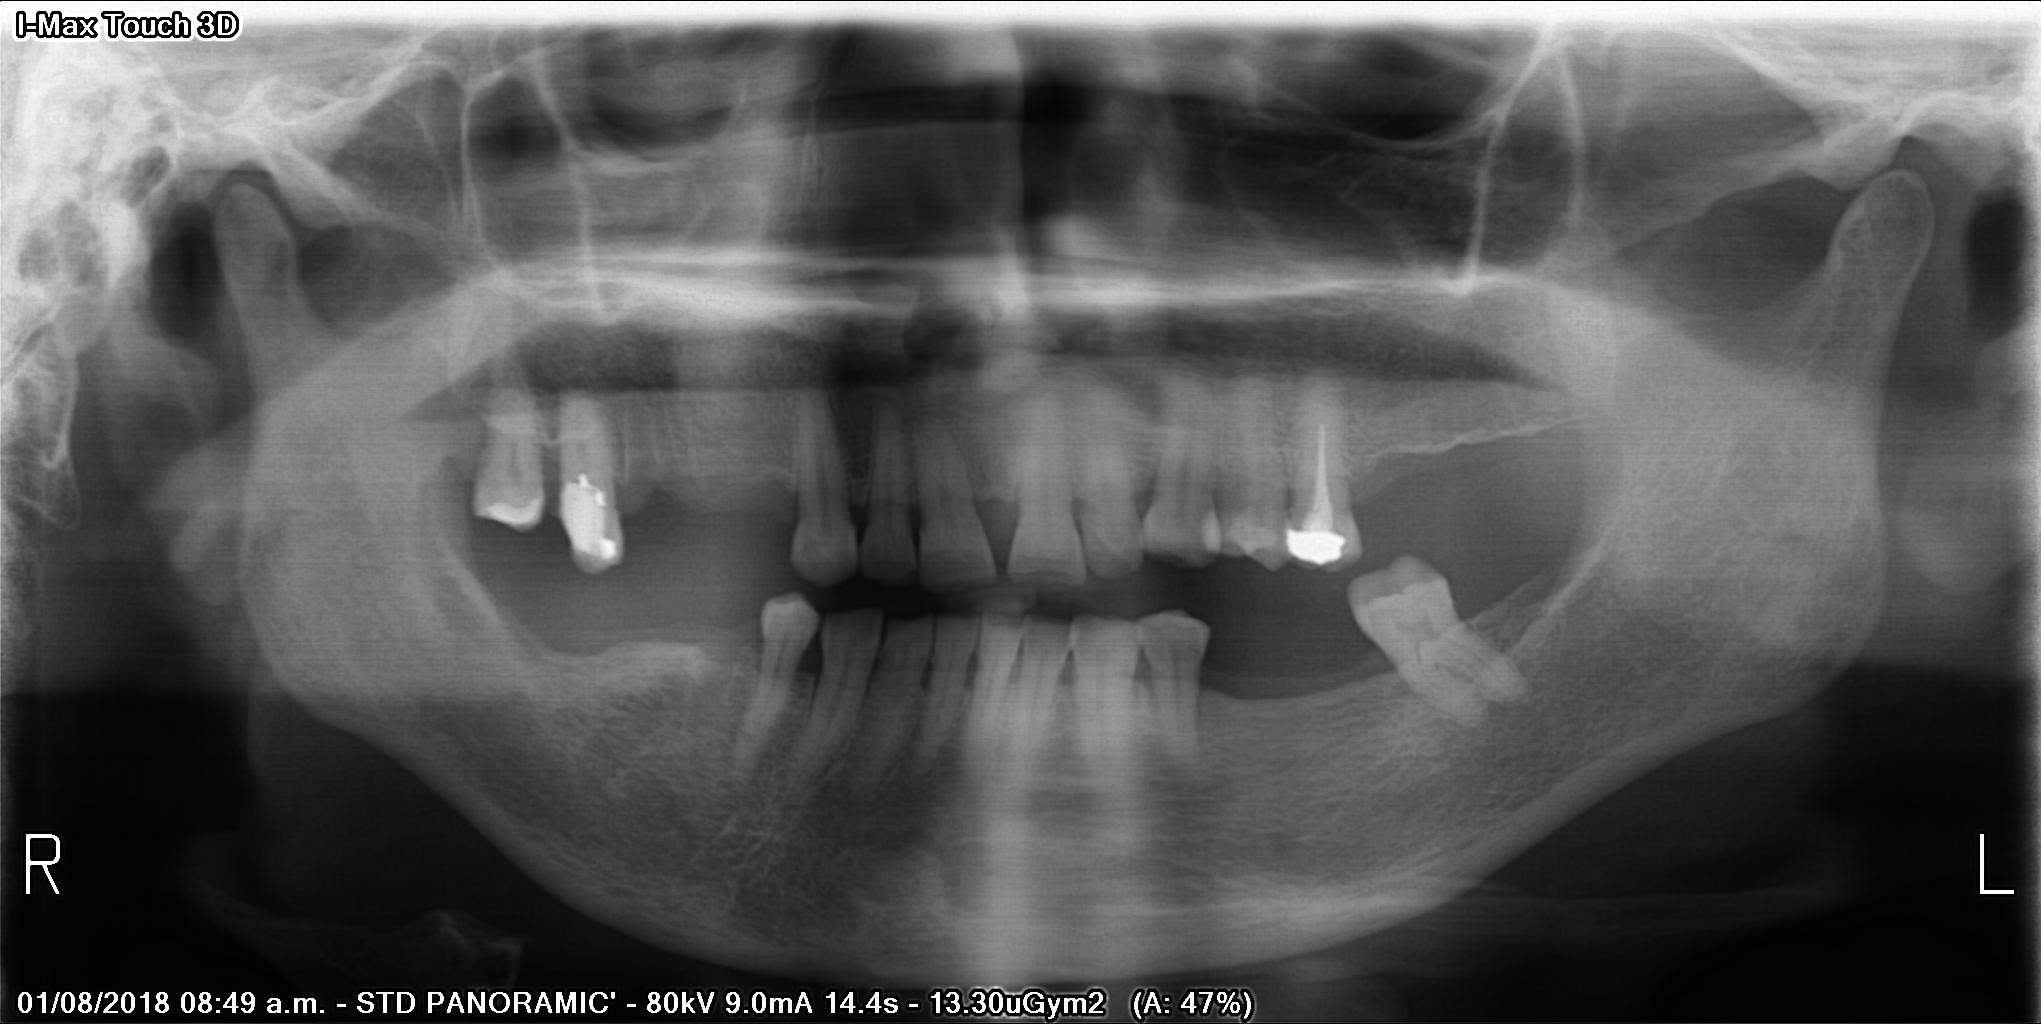Çürük: (560, 486, 622, 573), (1278, 505, 1354, 569), (487, 488, 555, 533), (1199, 511, 1220, 552)
